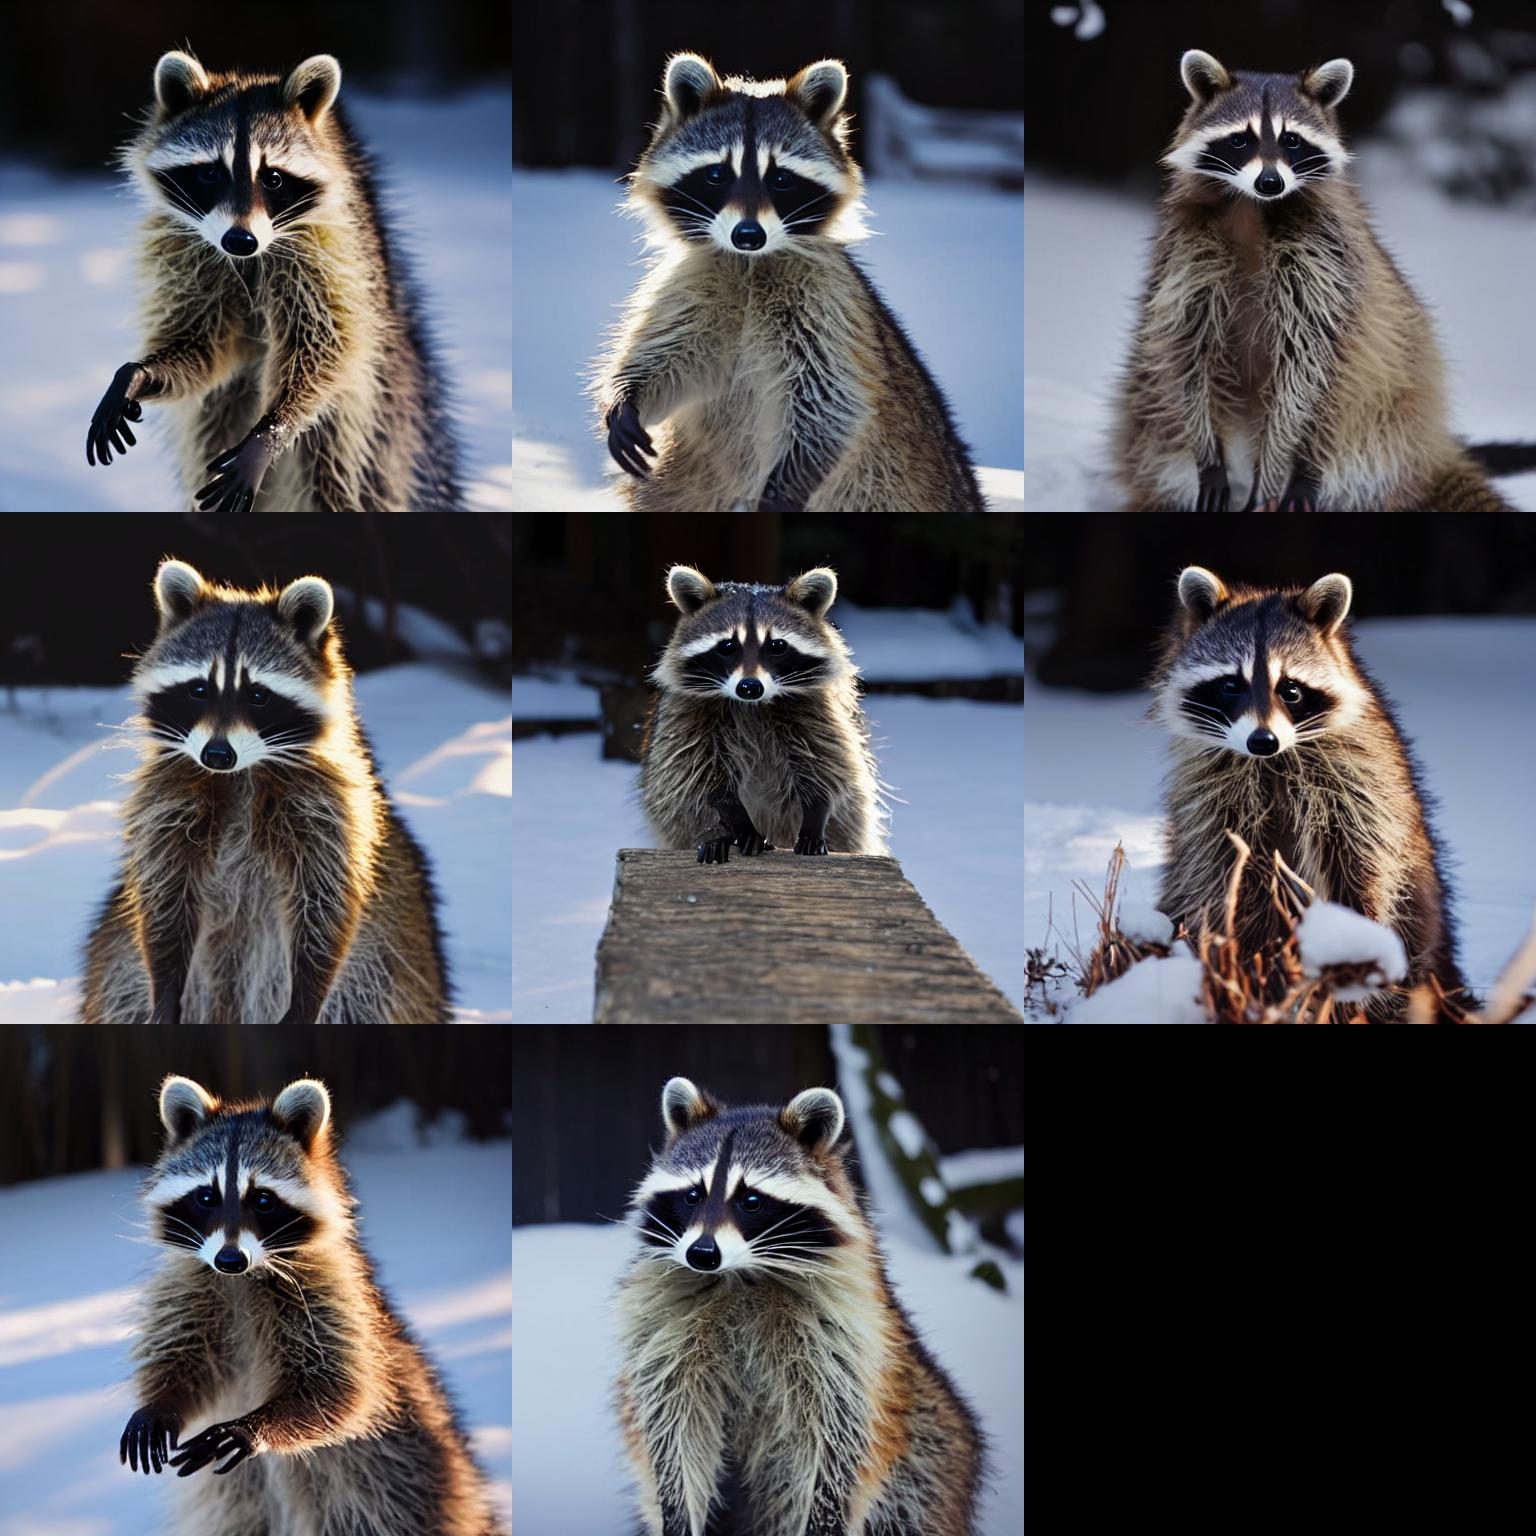raccoon: (598, 1069, 997, 1536), (125, 1061, 504, 1529), (622, 41, 993, 506), (121, 42, 454, 508), (1117, 44, 1450, 506), (97, 558, 426, 1020), (1135, 553, 1474, 1000), (632, 558, 890, 847)
